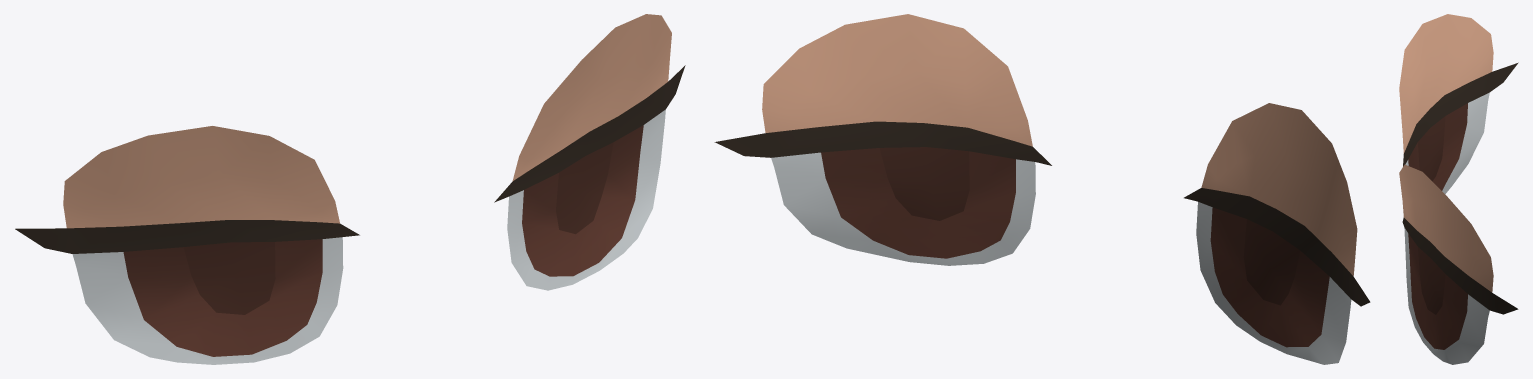
File: Eye_8.fbx
3 views of the same model, side by side, from view 1: azimuth 30°, elevation 25°; view 2: azimuth 150°, elevation 25°; view 3: azimuth 270°, elevation 25° (orthographic). The views are drawn at different scales.
Visible parts, largest first — view 1: Eye_8; view 2: Eye_8; view 3: Eye_8.
Boxes of the visible parts, x1,y1,x2,y2 form: Eye_8: (15, 14, 685, 364); Eye_8: (714, 14, 1370, 364); Eye_8: (1399, 14, 1518, 364).
Size of the model in its own units: 41.23 by 14.51 by 8.45.
